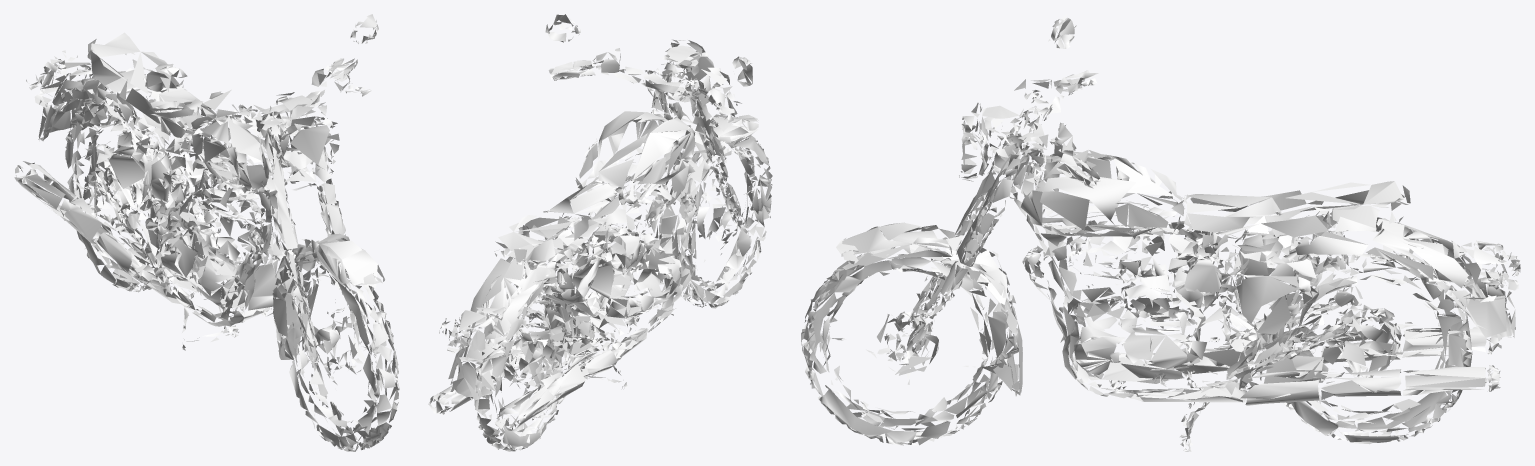
The model's file is beach-motorcycle.glb.
3 renders of one model, left to right at view 1: azimuth 30°, elevation 25°; view 2: azimuth 150°, elevation 25°; view 3: azimuth 270°, elevation 25°, orthographic. The views are drawn at different scales.
Visible parts, largest first — view 1: model; view 2: model; view 3: model.
Boxes of the visible parts, x1,y1,x2,y2 form: model: [14, 14, 399, 451]; model: [428, 14, 772, 451]; model: [801, 14, 1520, 451].
Bounding box in the file's own units: 0.7518 × 1.09 × 1.89.
1 material, 1 textured.
